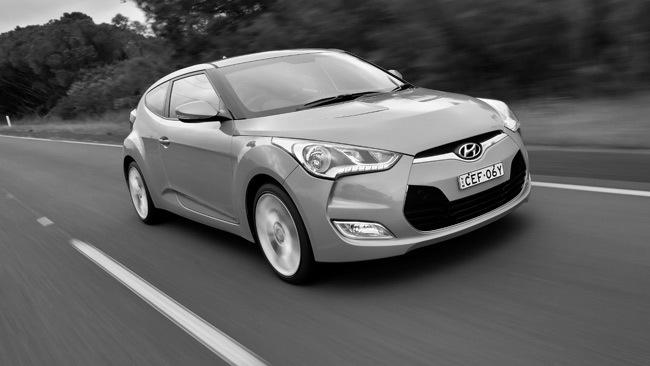car: (109, 41, 548, 301)
